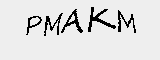А: (60, 7, 83, 37)
К: (88, 3, 117, 34)
М: (42, 10, 64, 39), (114, 11, 140, 34)
Р: (21, 14, 45, 37)
